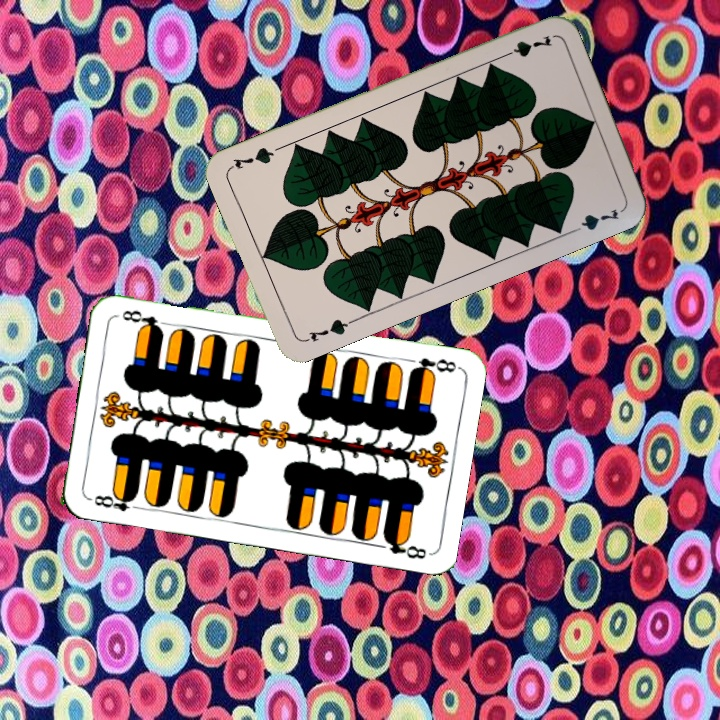E8: (86, 488, 144, 514), (406, 353, 461, 378)
G7: (496, 31, 555, 61), (299, 315, 356, 345)
